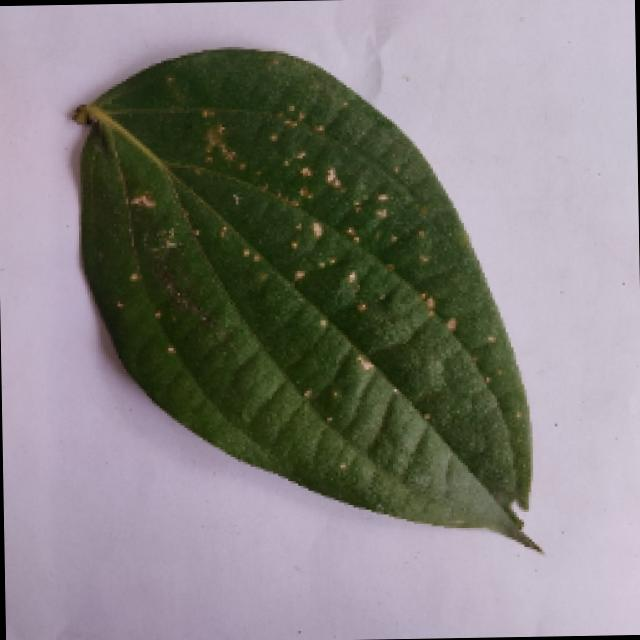pollu-disease: (65, 41, 534, 562)
